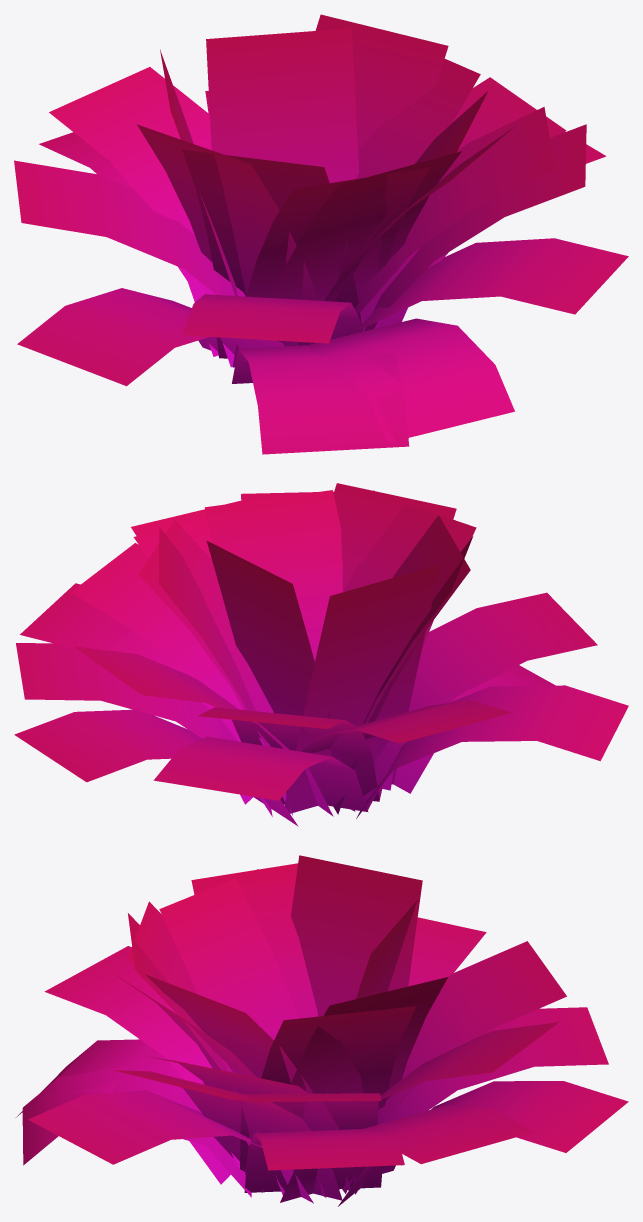
File: grass_clump_001.fbx
3 views of the same model, one above another, from view 1: azimuth 30°, elevation 25°; view 2: azimuth 150°, elevation 25°; view 3: azimuth 270°, elevation 25° (orthographic). The views are drawn at different scales.
Visible parts, largest first — view 1: clump_001_LOD0; view 2: clump_001_LOD0; view 3: clump_001_LOD0.
Boxes of the visible parts, <box> form: clump_001_LOD0: <box>14,14,628,454</box>; clump_001_LOD0: <box>14,483,628,826</box>; clump_001_LOD0: <box>16,855,628,1206</box>.
Size of what is drawn, in the model's own units: 4.27 by 1.92 by 4.2.
